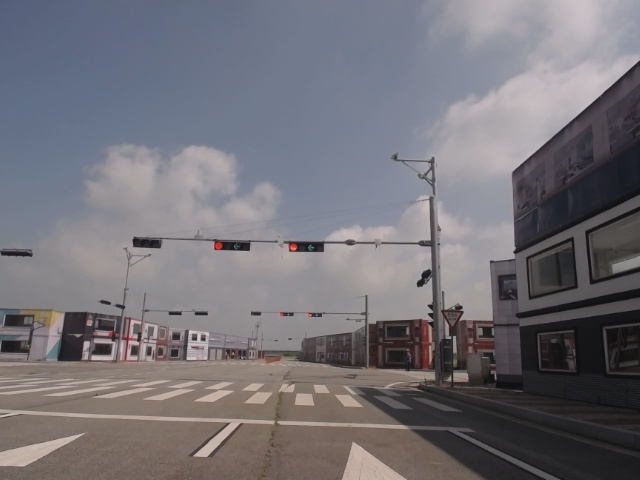left_green_4: (214, 240, 251, 252)
